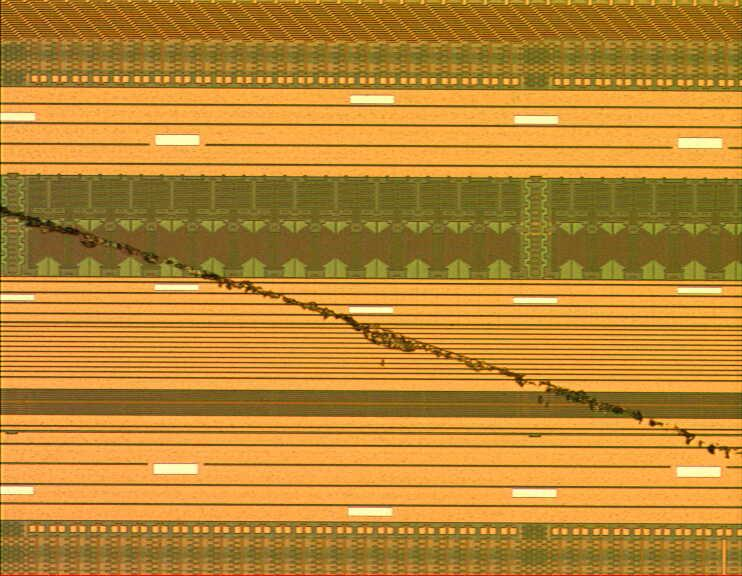SCRATCH: (1, 199, 742, 473)
